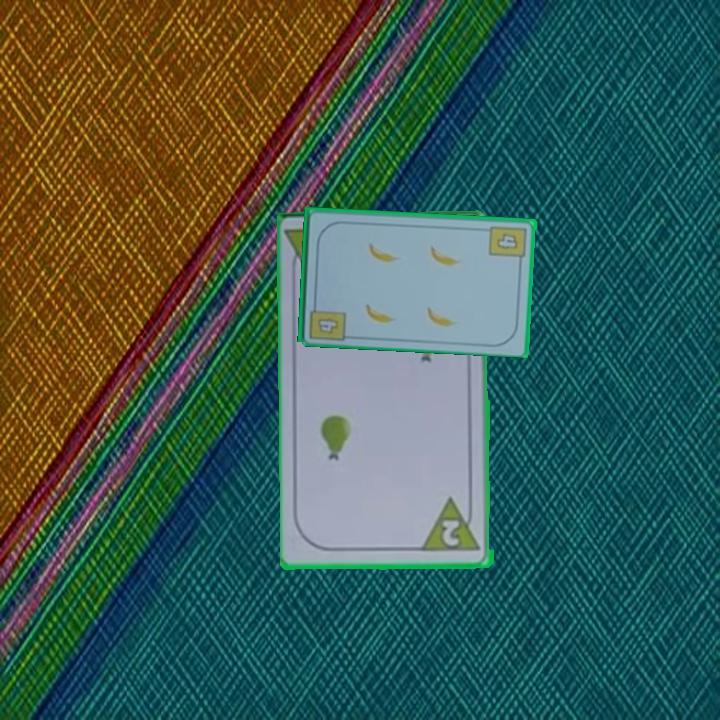2p: (421, 495, 484, 555)
4b: (305, 297, 348, 343), (486, 222, 530, 266)
